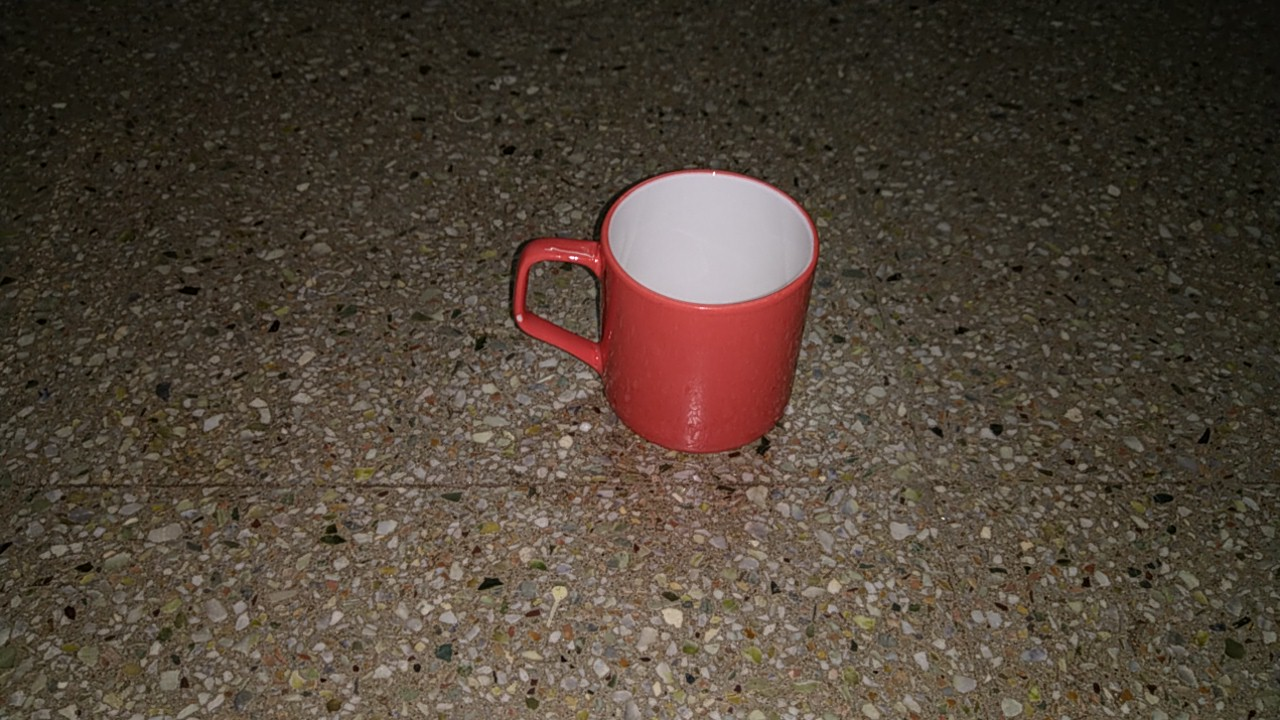cup: (505, 162, 831, 468)
